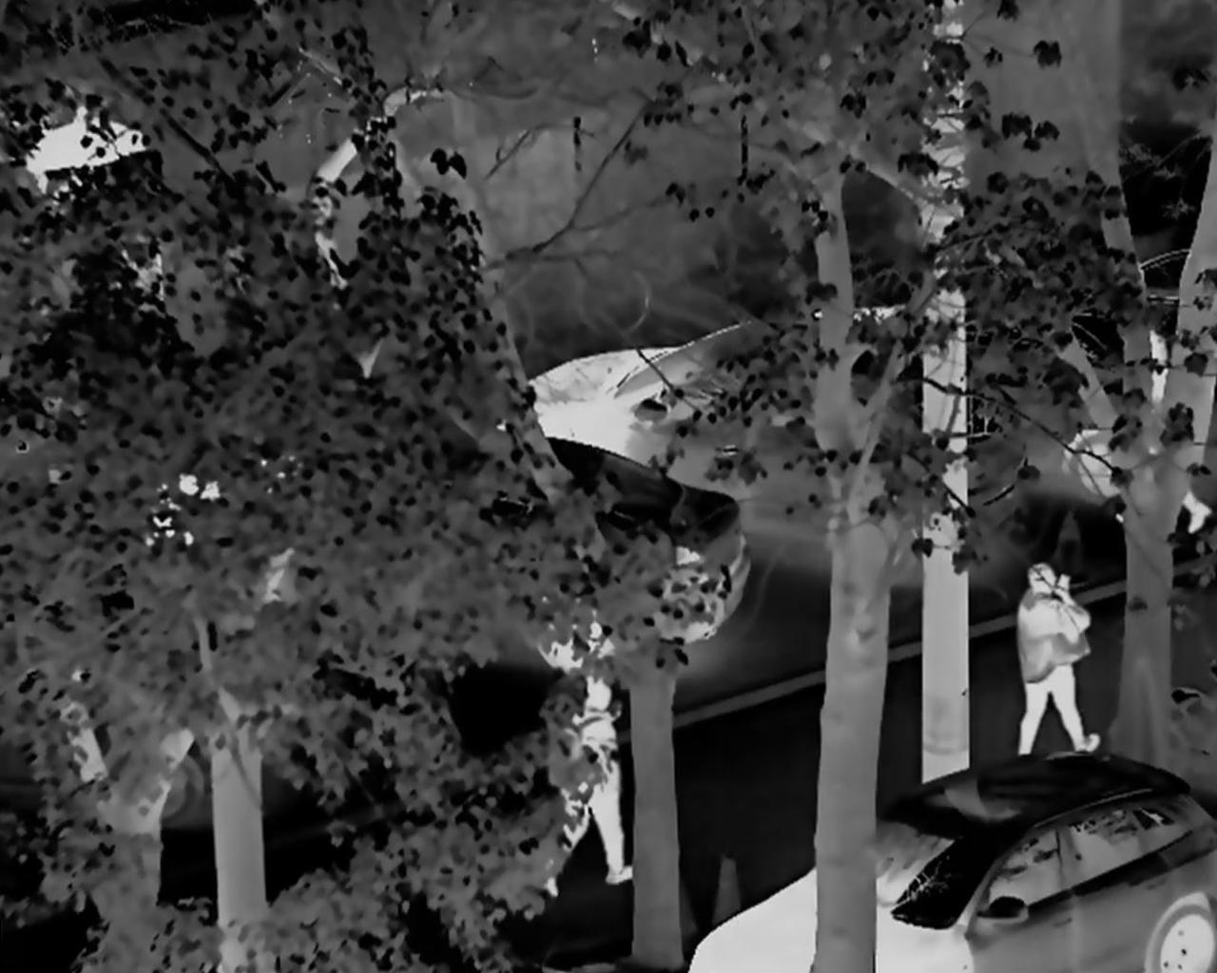person: (540, 665, 634, 899), (1009, 565, 1100, 757)
